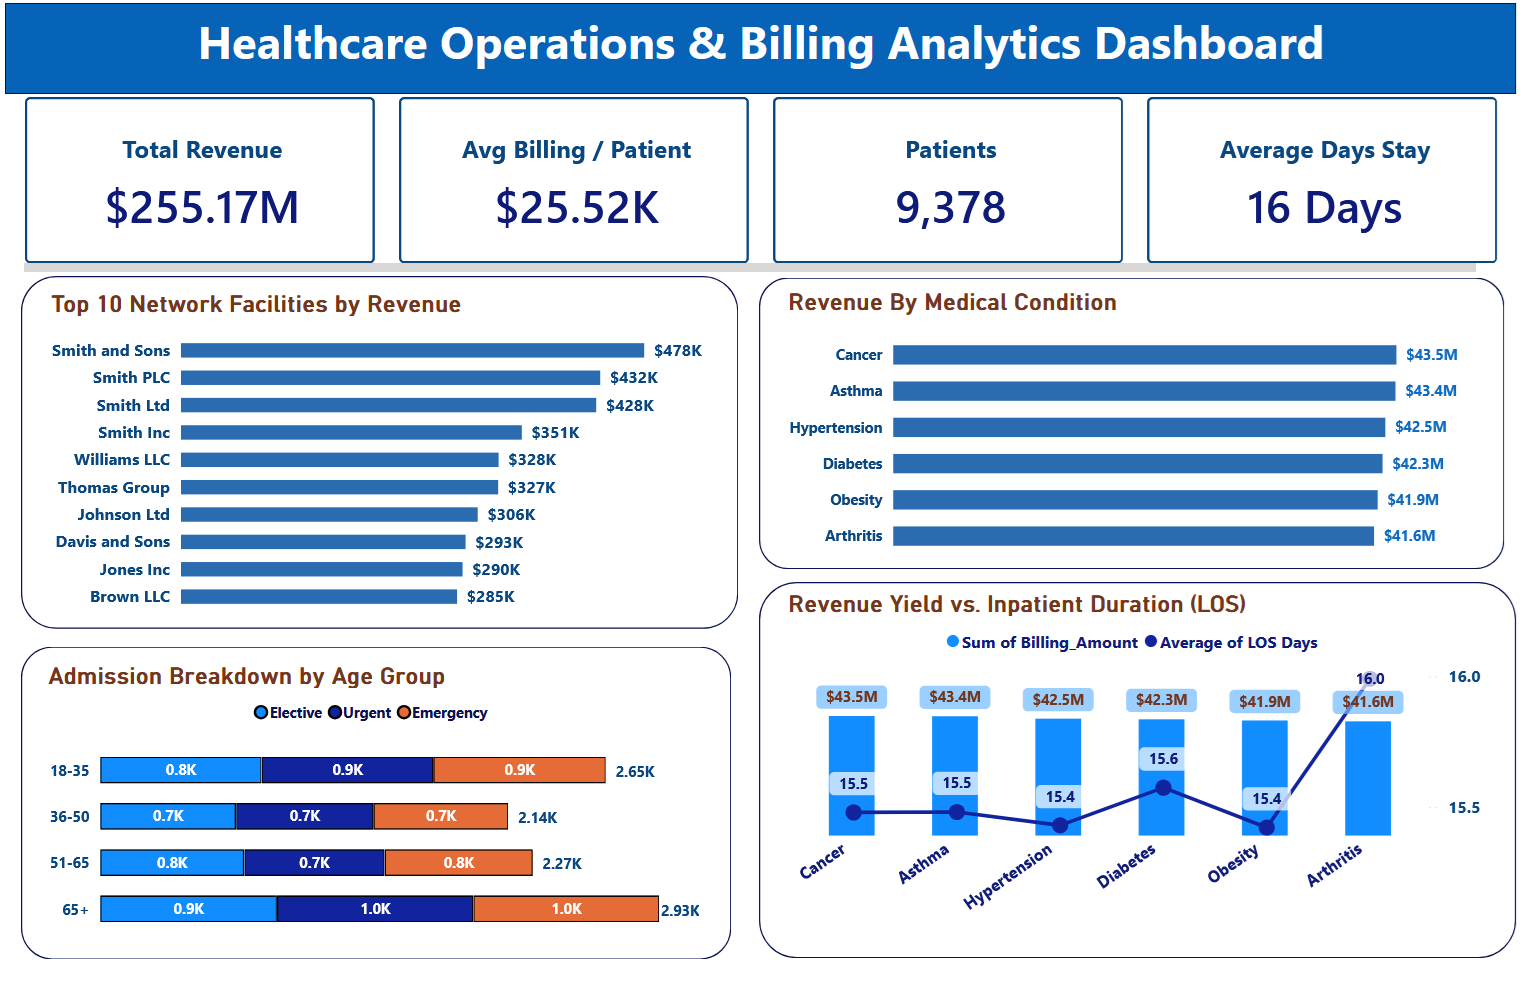

This screenshot's page, from the dashboard's own definition file:
{"tool":"powerbi","page":{"name":"Page 1","canvas":[1280,800],"ordinal":0},"visuals":[{"type":"cardVisual","fields":{"Data":["Min(healthcare_billing.Total Revenue)","Min(healthcare_billing.Average Billing Amount)","Count(healthcare_billing.Name)","Min(healthcare_billing.Average Days Stay in Hospital)"]},"box":[12.6,64.8,1243.2,167.3],"z":0},{"type":"textbox","box":[11.5,2,1244.2,75],"z":1000},{"type":"shape","box":[25,532.7,584.6,257.7],"z":2000},{"type":"shape","box":[632.7,478.8,623.1,309.6],"z":3000},{"type":"lineClusteredColumnComboChart","title":"Revenue Yield vs. Inpatient Duration (LOS)","fields":{"Category":["healthcare_billing.Medical_Condition"],"Y":["Sum(healthcare_billing.Billing_Amount)"],"Y2":["Avg(healthcare_billing.LOS Days)"]},"box":[650,484.6,580.8,298.1],"z":4000},{"type":"shape","box":[25,226.9,590.4,290.4],"z":5000},{"type":"barChart","title":"Top 10 Network Facilities by Revenue","fields":{"Category":["healthcare_billing.Hospital"],"Y":["Sum(healthcare_billing.Billing_Amount)"]},"box":[44.2,238.5,546.2,273.1],"z":6000},{"type":"shape","box":[632.7,228.8,613.5,240],"z":7000},{"type":"barChart","title":"Revenue By Medical Condition","fields":{"Category":["healthcare_billing.Medical_Condition"],"Y":["Sum(healthcare_billing.Billing_Amount)"]},"box":[650,236.5,573.1,230],"z":8000},{"type":"barChart","title":"Admission Breakdown by Age Group","fields":{"Category":["healthcare_billing.Age Group"],"Y":["CountNonNull(healthcare_billing.Name)"],"Series":["healthcare_billing.Admission_Type"]},"box":[42.3,544.2,546.2,236.5],"z":9000}]}

Visuals, with their boxes on the page's 1280x800 design canvas (x1, y1, x2, y2). These are canvas units, not pixel positions in the 1521x1000 screenshot, which may show the page scaled, cropped or inside an application window:
cardVisual - Min(healthcare_billing.Total Revenue) x Min(healthcare_billing.Average Billing Amount): <box>13,65,1256,232</box>
textbox: <box>12,2,1256,77</box>
shape: <box>25,533,610,790</box>
shape: <box>633,479,1256,788</box>
"Revenue Yield vs. Inpatient Duration (LOS)" lineClusteredColumnComboChart: <box>650,485,1231,783</box>
shape: <box>25,227,615,517</box>
"Top 10 Network Facilities by Revenue" barChart: <box>44,238,590,512</box>
shape: <box>633,229,1246,469</box>
"Revenue By Medical Condition" barChart: <box>650,236,1223,466</box>
"Admission Breakdown by Age Group" barChart: <box>42,544,588,781</box>
